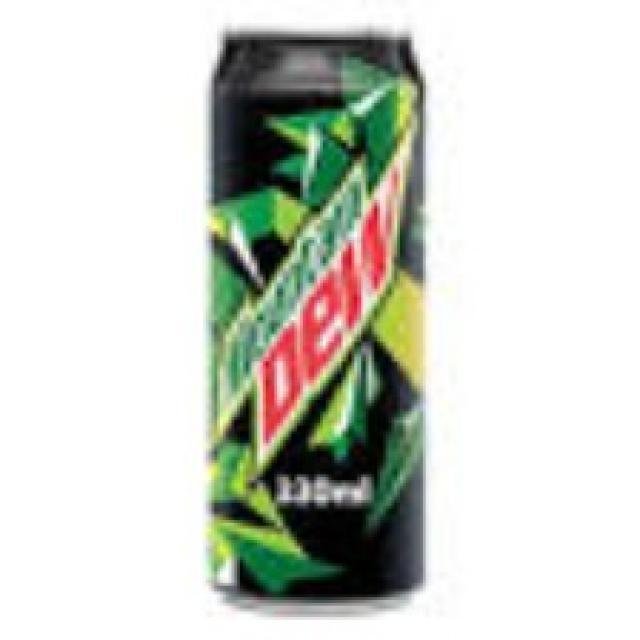metel: (200, 23, 445, 615)
